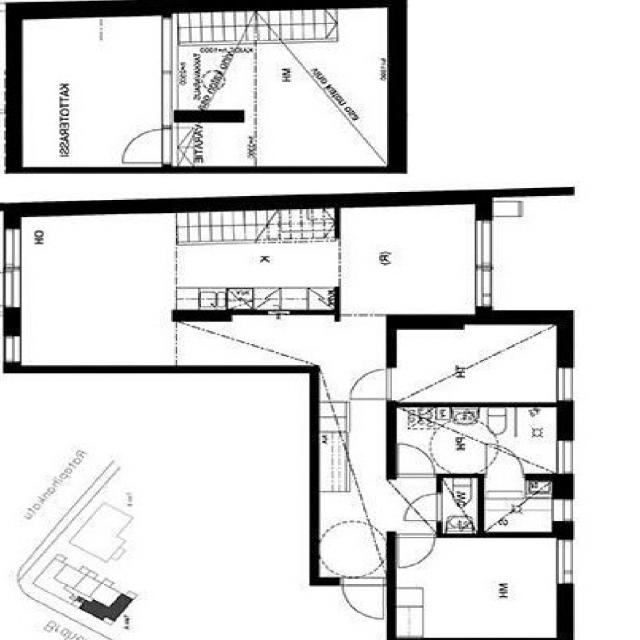door: (122, 129, 172, 162), (344, 578, 384, 618), (487, 443, 524, 478), (351, 369, 392, 399), (399, 533, 435, 567), (399, 444, 434, 478), (404, 494, 442, 520), (0, 272, 21, 306)
